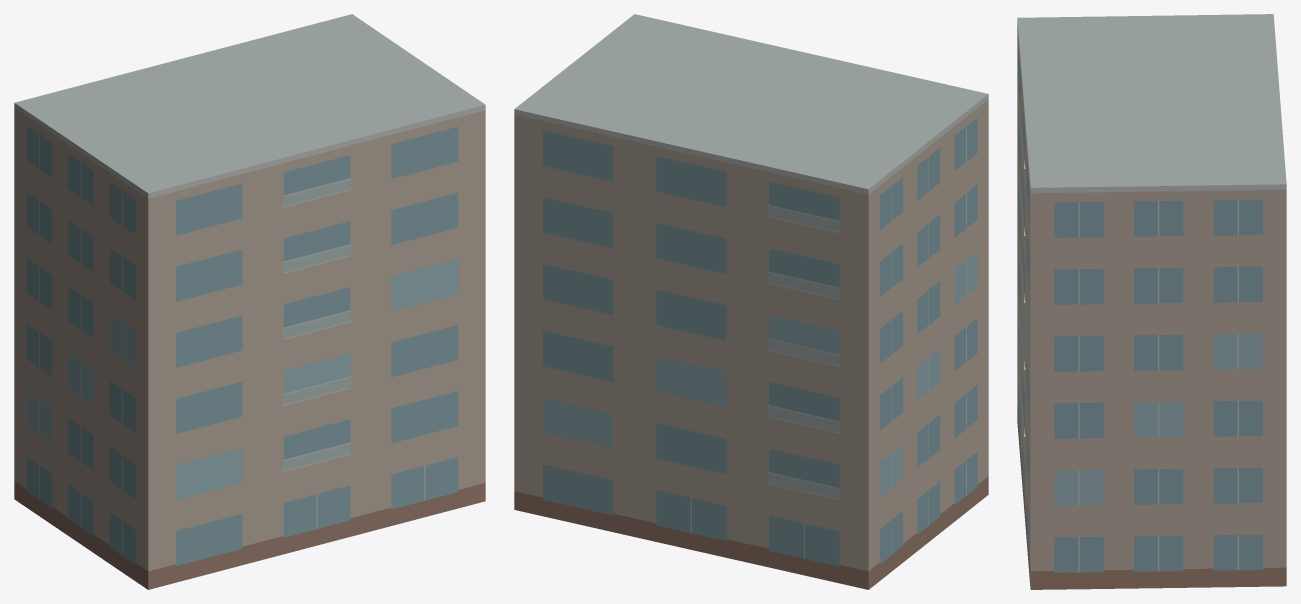
File: survey-upis-32725811.glb
The picture shows the model from 3 angles, left to right: view 1: azimuth 30°, elevation 25°; view 2: azimuth 150°, elevation 25°; view 3: azimuth 270°, elevation 25°; orthographic projection.
Visible parts, largest first — view 1: survey-upis-32725811.tmp; view 2: survey-upis-32725811.tmp; view 3: survey-upis-32725811.tmp.
Boxes of the visible parts, x1=… form: survey-upis-32725811.tmp: x1=14, y1=14, x2=485, y2=589; survey-upis-32725811.tmp: x1=514, y1=14, x2=988, y2=589; survey-upis-32725811.tmp: x1=1017, y1=14, x2=1286, y2=589.
Bounding box in the file's own units: 16.99 × 18.3 × 11.12.
